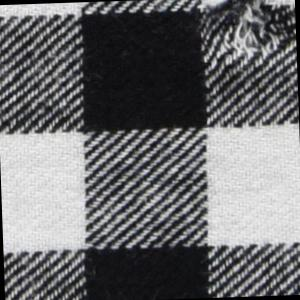Damage: (198, 1, 298, 64)
